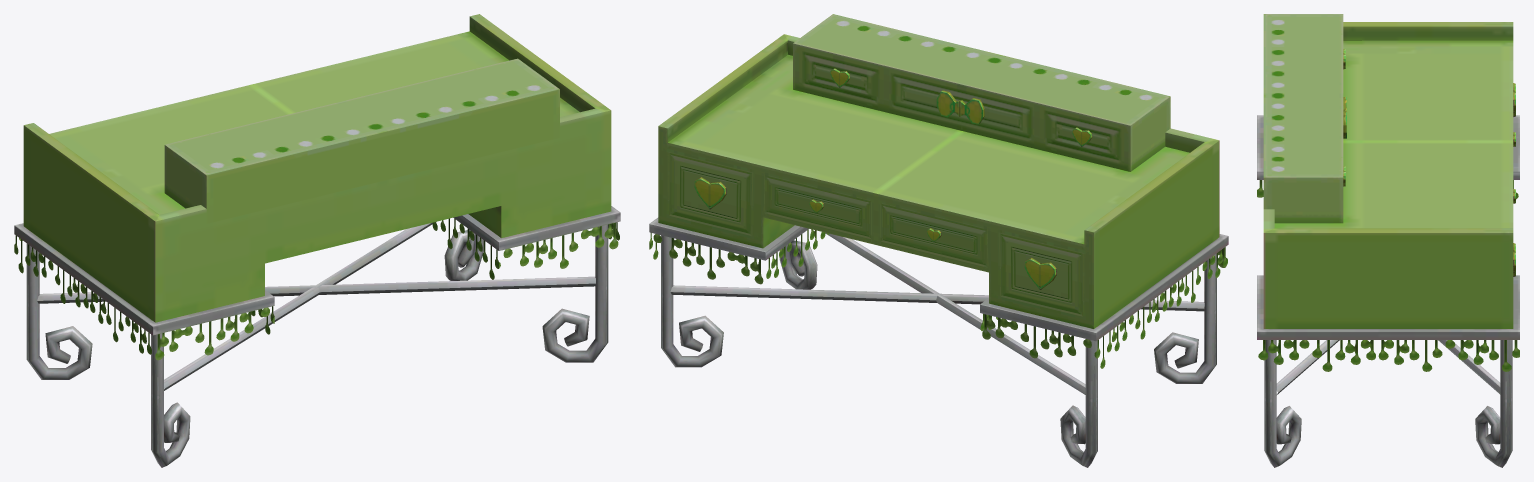
File: furni_0200025_02.FBX
3 views of the same model, side by side, from view 1: azimuth 30°, elevation 25°; view 2: azimuth 150°, elevation 25°; view 3: azimuth 270°, elevation 25° (orthographic). The views are drawn at different scales.
Visible parts, largest first — view 1: furni_0200025_02; view 2: furni_0200025_02; view 3: furni_0200025_02.
Boxes of the visible parts, x1,y1,x2,y2 form: furni_0200025_02: [14, 14, 620, 467]; furni_0200025_02: [649, 14, 1228, 467]; furni_0200025_02: [1257, 14, 1519, 467].
Size of the model in its own units: 164 by 96.29 by 84.24.
